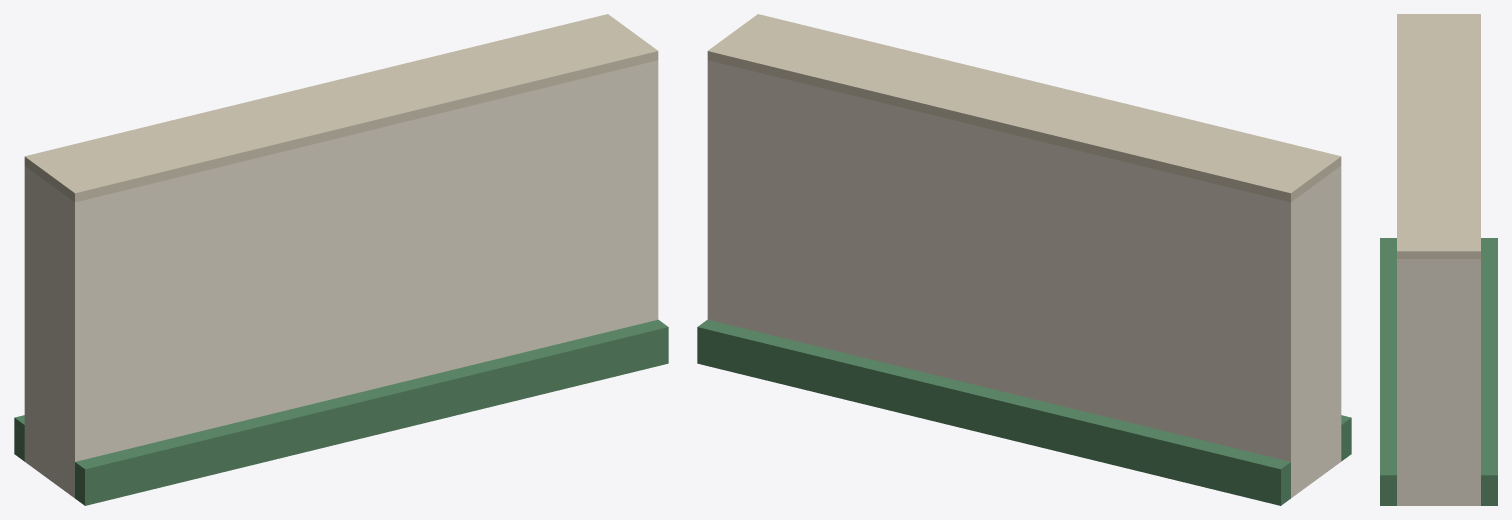
Rendered from partition-low.glb.
The picture shows the model from 3 angles, left to right: view 1: azimuth 30°, elevation 25°; view 2: azimuth 150°, elevation 25°; view 3: azimuth 270°, elevation 25°; orthographic projection. The views are drawn at different scales.
Visible parts, largest first — view 1: partition-low; view 2: partition-low; view 3: partition-low.
Boxes of the visible parts, x1=… form: partition-low: x1=14, y1=14, x2=668, y2=505; partition-low: x1=697, y1=14, x2=1351, y2=505; partition-low: x1=1380, y1=14, x2=1497, y2=505.
Bounding box in the file's own units: 1 × 0.5 × 0.21.
1 material, 1 textured.
